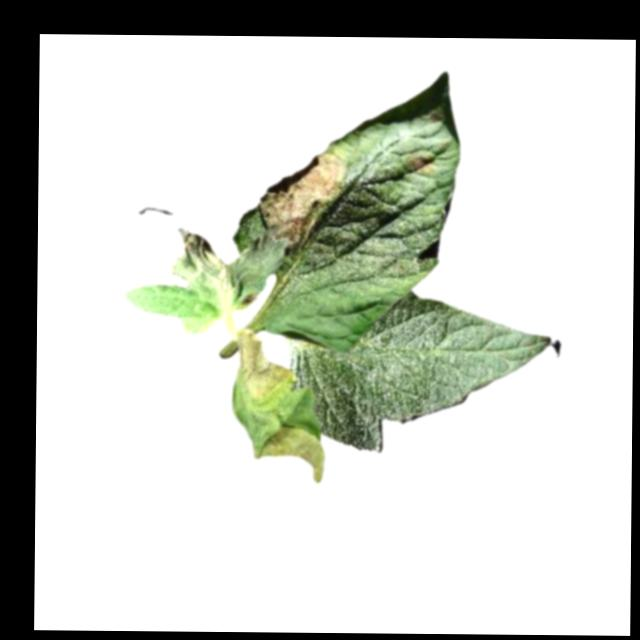Late_blight: (171, 227, 287, 313), (259, 151, 346, 256), (247, 409, 326, 483), (234, 325, 295, 410), (402, 152, 433, 177)
